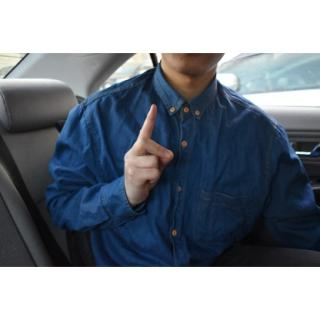TAA: (121, 100, 180, 206)
